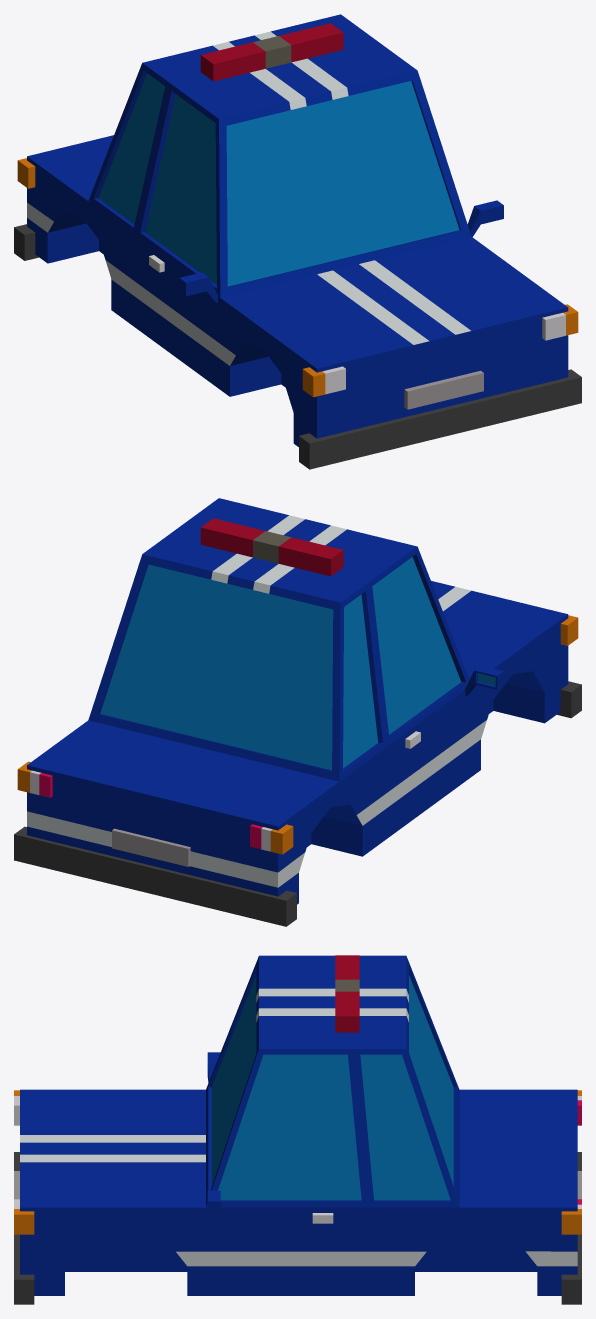
The model's file is car_police.fbx.
The picture shows the model from 3 angles, top to bottom: view 1: azimuth 30°, elevation 25°; view 2: azimuth 150°, elevation 25°; view 3: azimuth 270°, elevation 25°; orthographic projection. The views are drawn at different scales.
Visible parts, largest first — view 1: car_police; view 2: car_police; view 3: car_police.
Part boxes in pixels (x1,y1,x2,y2): car_police: (14,14,581,469); car_police: (14,498,581,926); car_police: (14,955,581,1304).
Size of the model in its own units: 253 by 202 by 408.
